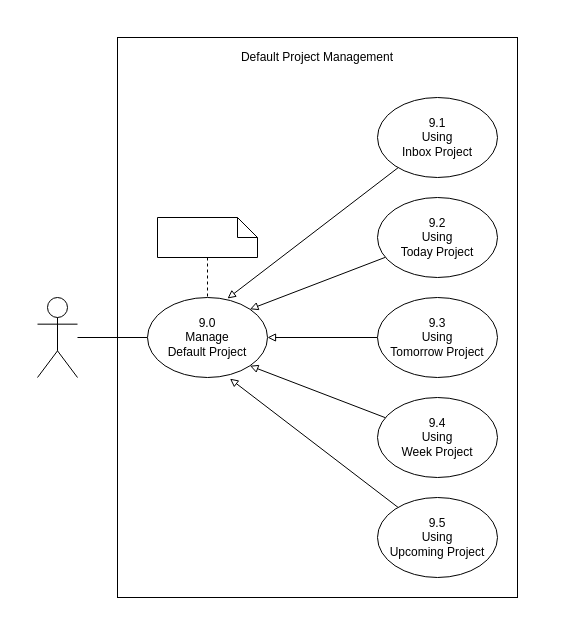
This 574x634 diagram has some shape labels left out. Here are the shapes that lost their labels. From the top down, the centre of each, then its label:
(207,237): View/Edit
(57,337): User
